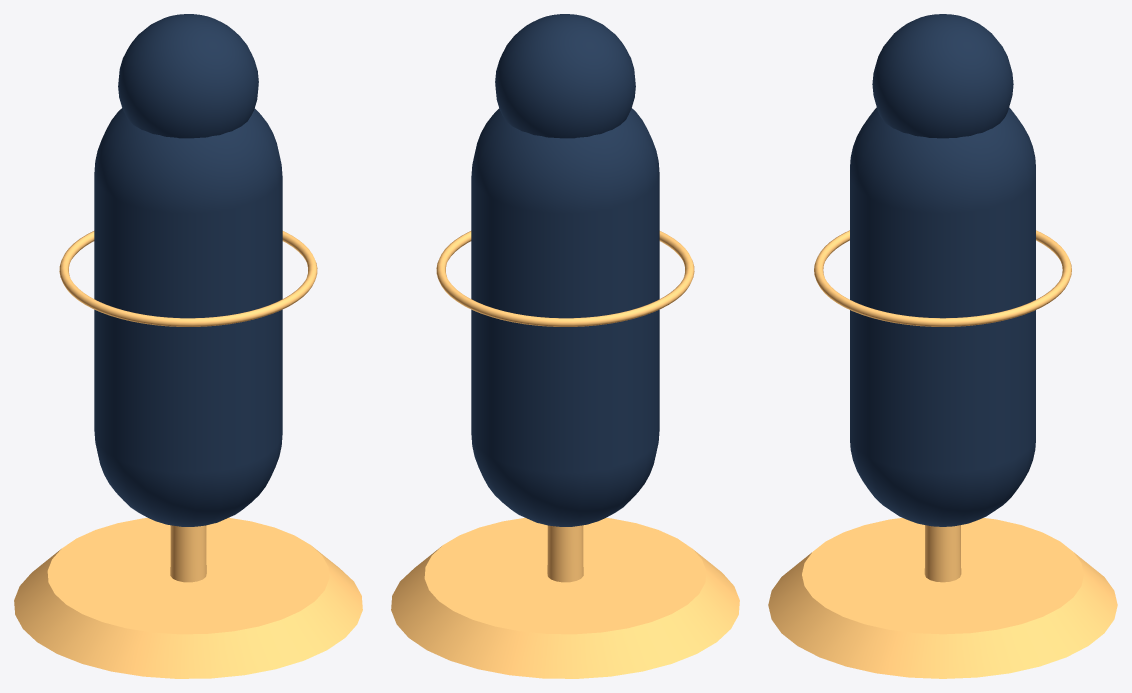
The model's file is procedural-sword-lab-training-target-v1.glb.
3 renders of one model, left to right at view 1: azimuth 30°, elevation 25°; view 2: azimuth 150°, elevation 25°; view 3: azimuth 270°, elevation 25°, orthographic.
Visible parts, largest first — view 1: Torso, Base, Head, Target ring, Post; view 2: Torso, Base, Head, Target ring, Post; view 3: Torso, Base, Head, Target ring, Post.
Part boxes in pixels (bbox=[...]): Torso: bbox=[94, 108, 282, 526]; Base: bbox=[14, 517, 362, 678]; Head: bbox=[118, 14, 258, 138]; Target ring: bbox=[59, 231, 317, 326]; Post: bbox=[170, 525, 206, 582]; Torso: bbox=[471, 108, 659, 526]; Base: bbox=[391, 517, 739, 678]; Head: bbox=[495, 14, 635, 138]; Target ring: bbox=[436, 231, 694, 326]; Post: bbox=[547, 525, 583, 582]; Torso: bbox=[850, 107, 1035, 526]; Base: bbox=[768, 518, 1117, 678]; Head: bbox=[872, 14, 1013, 138]; Target ring: bbox=[814, 230, 1071, 326]; Post: bbox=[924, 525, 961, 582].
Bounding box in the file's own units: 1.04 × 1.94 × 1.04.
